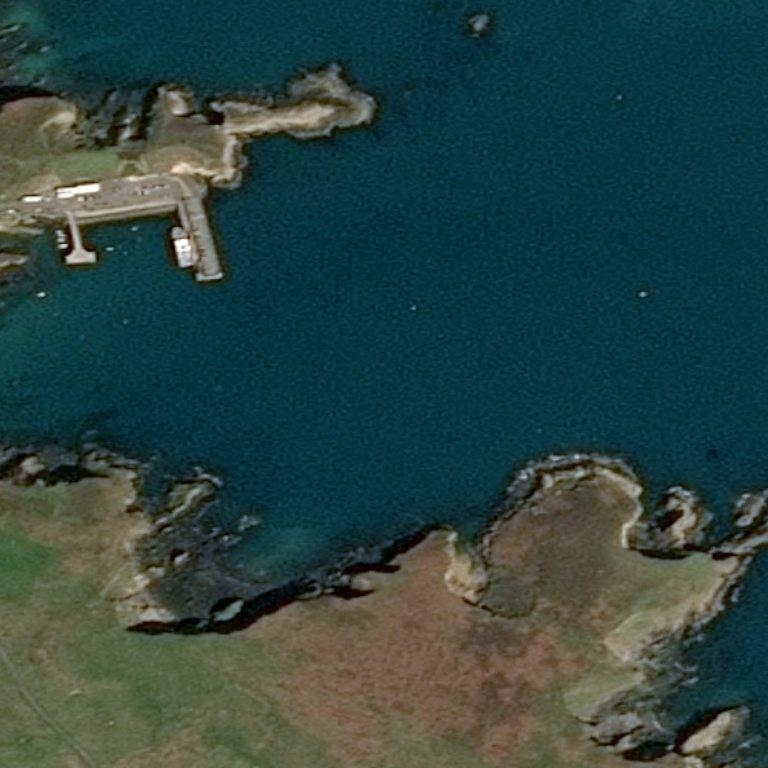ship: (55, 228, 69, 250), (170, 244, 194, 252)
